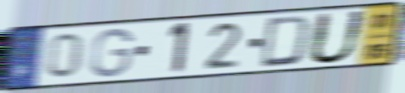0: (43, 30, 88, 81)
1: (166, 20, 194, 75)
2: (206, 21, 245, 71)
D: (257, 14, 314, 70)
G: (88, 26, 136, 79)
U: (305, 9, 370, 67)
